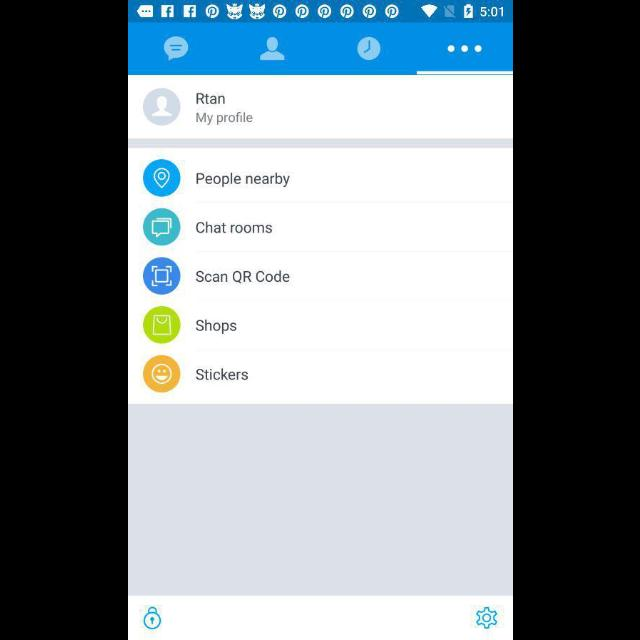icon: (142, 306, 180, 344), (142, 208, 180, 246), (142, 159, 180, 197), (144, 88, 180, 125), (164, 36, 188, 62), (260, 37, 284, 61), (475, 607, 497, 629), (143, 606, 161, 630), (447, 45, 481, 53)
image: (142, 257, 180, 295), (144, 355, 180, 393), (356, 37, 380, 61)
multitab: (128, 24, 512, 76)
text: (195, 270, 289, 284), (196, 174, 290, 188), (194, 222, 272, 234), (195, 112, 252, 126), (195, 369, 247, 381), (194, 320, 236, 334), (196, 93, 224, 105)
uppertaskbar: (128, 1, 512, 23)
